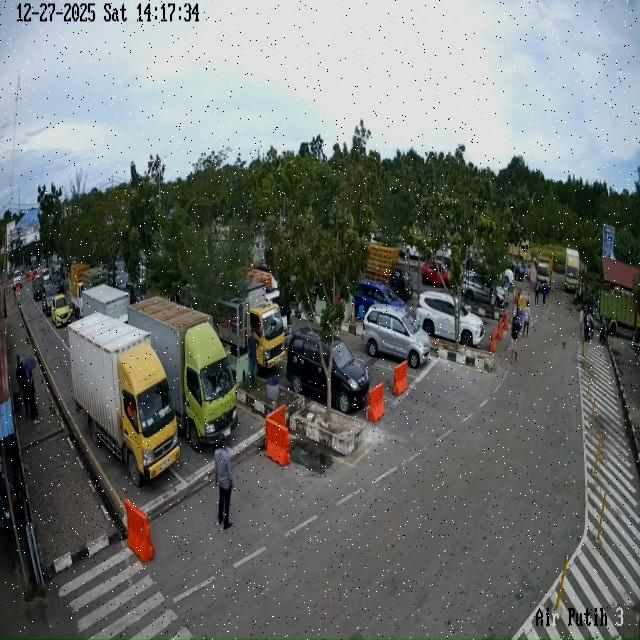Golongan IVA: (286, 327, 370, 414), (362, 304, 431, 369), (416, 291, 484, 347), (354, 280, 406, 317), (463, 271, 506, 308), (51, 294, 72, 328), (42, 281, 59, 316), (32, 274, 45, 301), (50, 271, 64, 293), (13, 269, 22, 292), (38, 267, 50, 282)
Golongan VB: (68, 314, 180, 486), (128, 297, 238, 451), (217, 280, 286, 369), (82, 284, 130, 323), (69, 262, 91, 319), (565, 248, 580, 292), (536, 253, 553, 290)
